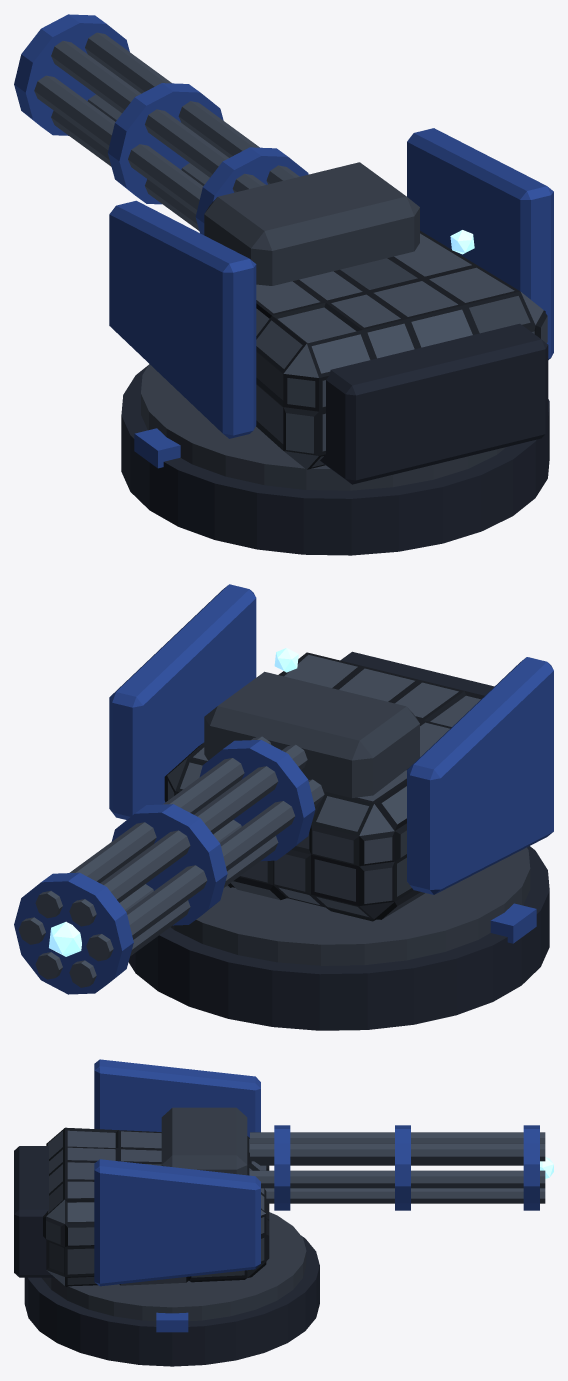
The model's file is turret_ion_repeaters.glb.
3 views of the same model, one above another, from view 1: azimuth 30°, elevation 25°; view 2: azimuth 150°, elevation 25°; view 3: azimuth 270°, elevation 25° (orthographic). The views are drawn at different scales.
Parts seen in each view (by area): view 1: Yaw_mesh, Pitch_mesh, Base_mesh; view 2: Yaw_mesh, Pitch_mesh, Base_mesh; view 3: Yaw_mesh, Pitch_mesh, Base_mesh.
Boxes of the visible parts, box(x1,y1,x2,y2) form: Yaw_mesh: box(109, 128, 553, 484); Pitch_mesh: box(14, 14, 419, 285); Base_mesh: box(121, 364, 549, 555); Yaw_mesh: box(109, 584, 553, 921); Pitch_mesh: box(14, 671, 419, 994); Base_mesh: box(128, 846, 549, 1030); Yaw_mesh: box(14, 1059, 269, 1286); Pitch_mesh: box(161, 1107, 553, 1210); Base_mesh: box(24, 1212, 319, 1366).
Bounding box in the file's own units: 1.12 × 0.7876 × 2.01.
